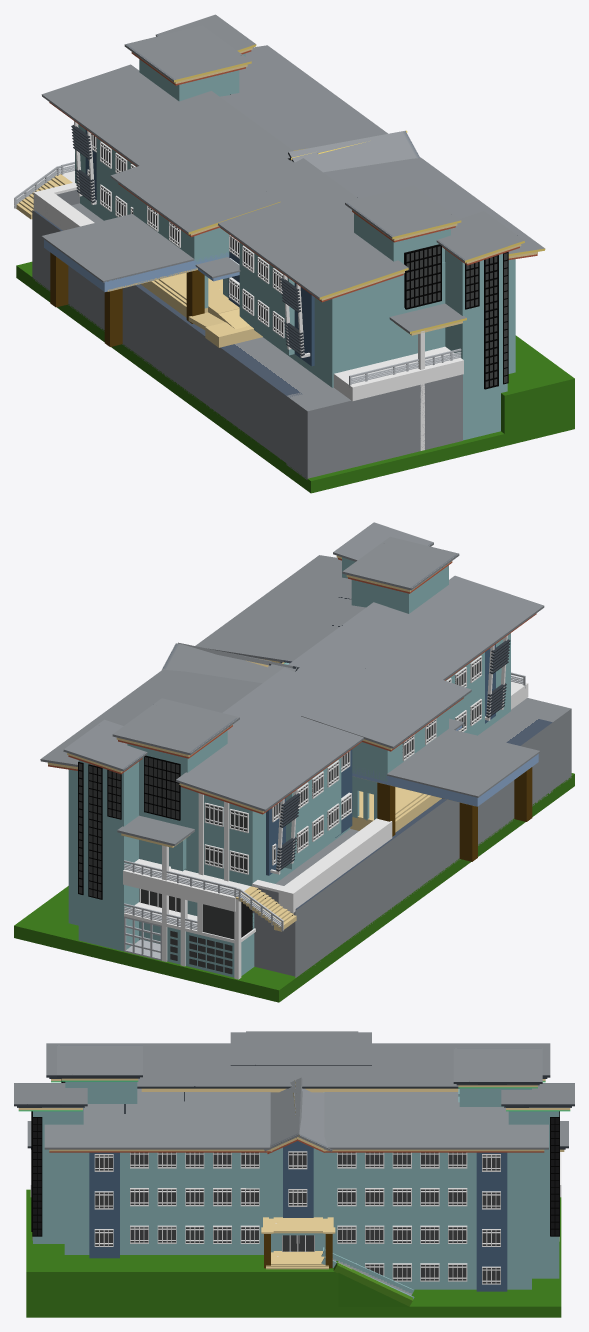
The model's file is COH.glb.
3 views of the same model, one above another, from view 1: azimuth 30°, elevation 25°; view 2: azimuth 150°, elevation 25°; view 3: azimuth 270°, elevation 25° (orthographic). The views are drawn at different scales.
Visible parts, largest first — view 1: cube.058; view 2: cube.058; view 3: cube.058.
Part boxes in pixels (<box>): cube.058: <box>14,14,574,493</box>; cube.058: <box>14,522,574,1002</box>; cube.058: <box>14,1031,574,1317</box>.
Size of the model in its own units: 15 by 8.96 by 22.81.
21 materials, 18 textured.
